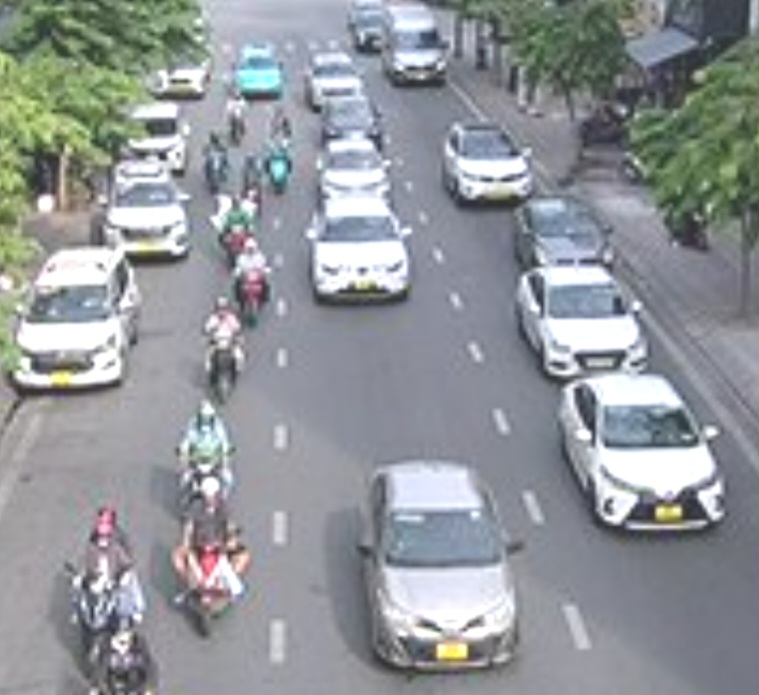car: (355, 452, 526, 670), (555, 375, 729, 537), (14, 245, 140, 394), (520, 267, 650, 375), (308, 200, 413, 304), (441, 117, 534, 209), (95, 177, 193, 263), (516, 196, 620, 274), (123, 104, 192, 175), (383, 9, 449, 83), (318, 139, 390, 203), (314, 97, 384, 144), (304, 50, 367, 101), (237, 45, 281, 101)
